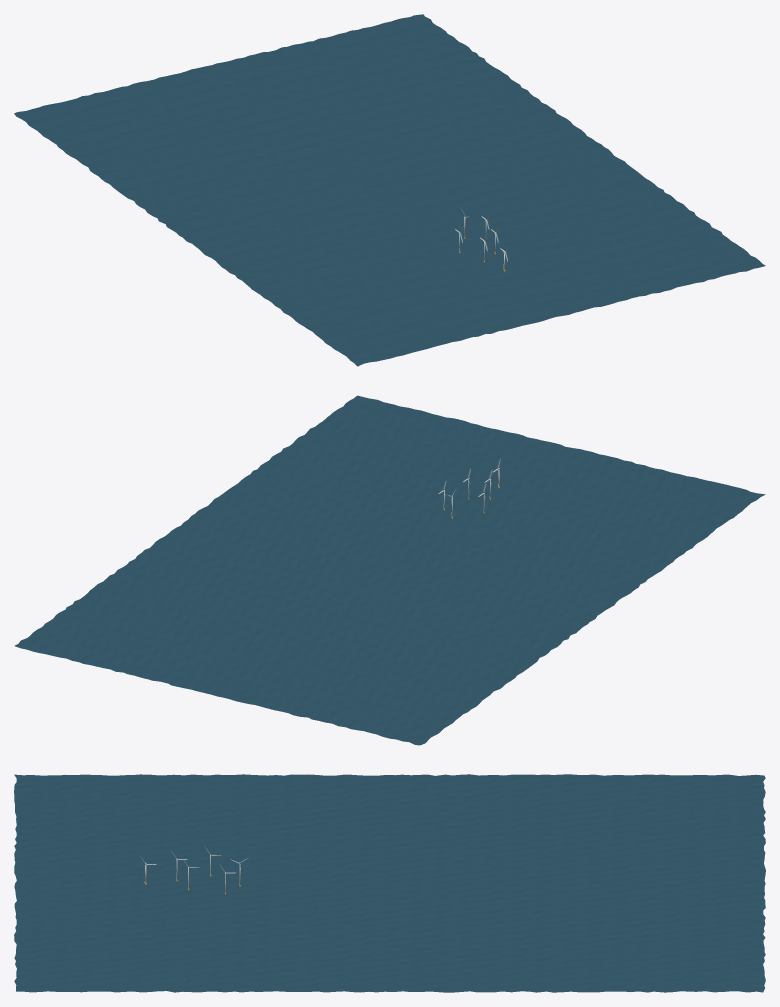
The model's file is ShoreBot_RH_BladeA_v05.fbx.
3 views of the same model, one above another, from view 1: azimuth 30°, elevation 25°; view 2: azimuth 150°, elevation 25°; view 3: azimuth 270°, elevation 25° (orthographic). The views are drawn at different scales.
Visible parts, largest first — view 1: ENV_ReferenceOcean; view 2: ENV_ReferenceOcean; view 3: ENV_ReferenceOcean.
Boxes of the visible parts, left/top/right/bottom form: ENV_ReferenceOcean: left=14, top=14, right=765, bottom=366; ENV_ReferenceOcean: left=14, top=395, right=765, bottom=745; ENV_ReferenceOcean: left=14, top=774, right=765, bottom=992.
Size of what is drawn, in the model's own units: 1288 by 90.43 by 1876.
